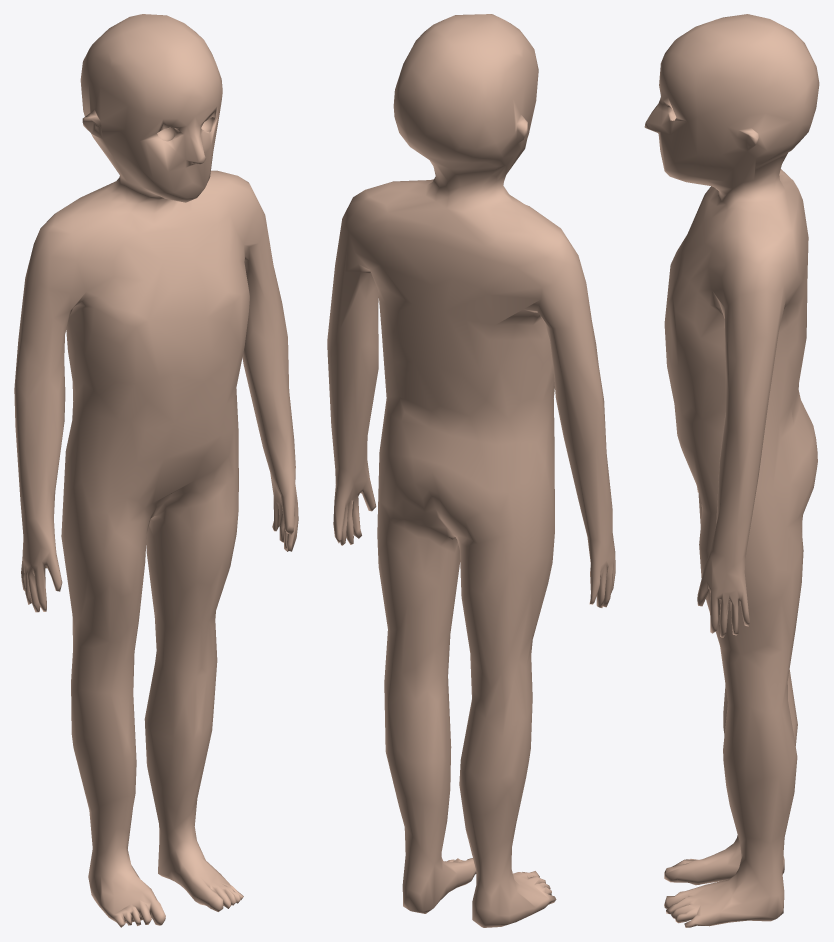
File: pediatric_child_5y_female.surface.LOD3.glb
3 views of the same model, side by side, from view 1: azimuth 30°, elevation 25°; view 2: azimuth 150°, elevation 25°; view 3: azimuth 270°, elevation 25° (orthographic).
Parts seen in each view (by area): view 1: PEDIATRIC.CHILD_5Y.FEMALE.SURFACE.SKIN; view 2: PEDIATRIC.CHILD_5Y.FEMALE.SURFACE.SKIN; view 3: PEDIATRIC.CHILD_5Y.FEMALE.SURFACE.SKIN.
Boxes of the visible parts, <box> form: PEDIATRIC.CHILD_5Y.FEMALE.SURFACE.SKIN: <box>14,14,298,927</box>; PEDIATRIC.CHILD_5Y.FEMALE.SURFACE.SKIN: <box>327,14,615,927</box>; PEDIATRIC.CHILD_5Y.FEMALE.SURFACE.SKIN: <box>644,14,819,927</box>.
Bounding box in the file's own units: 0.3537 × 1.09 × 0.1975.
